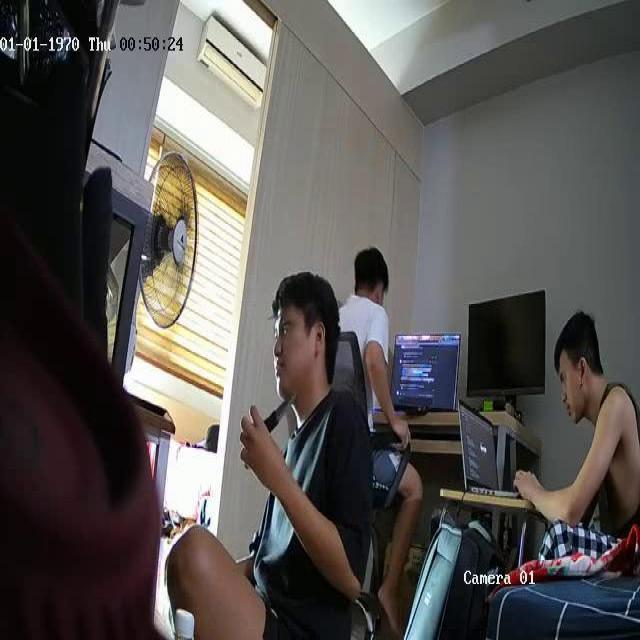scissor: (263, 391, 295, 434)
